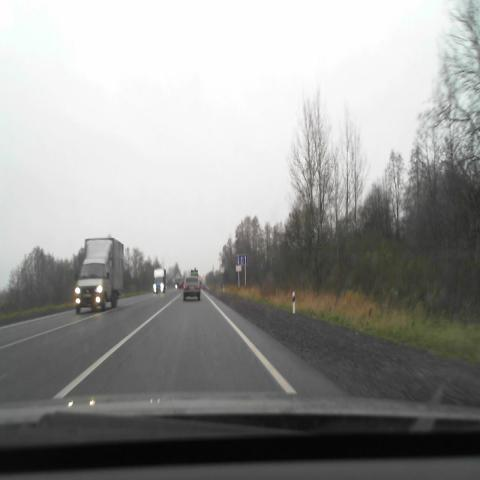5_15_7: (236, 255, 247, 265)
